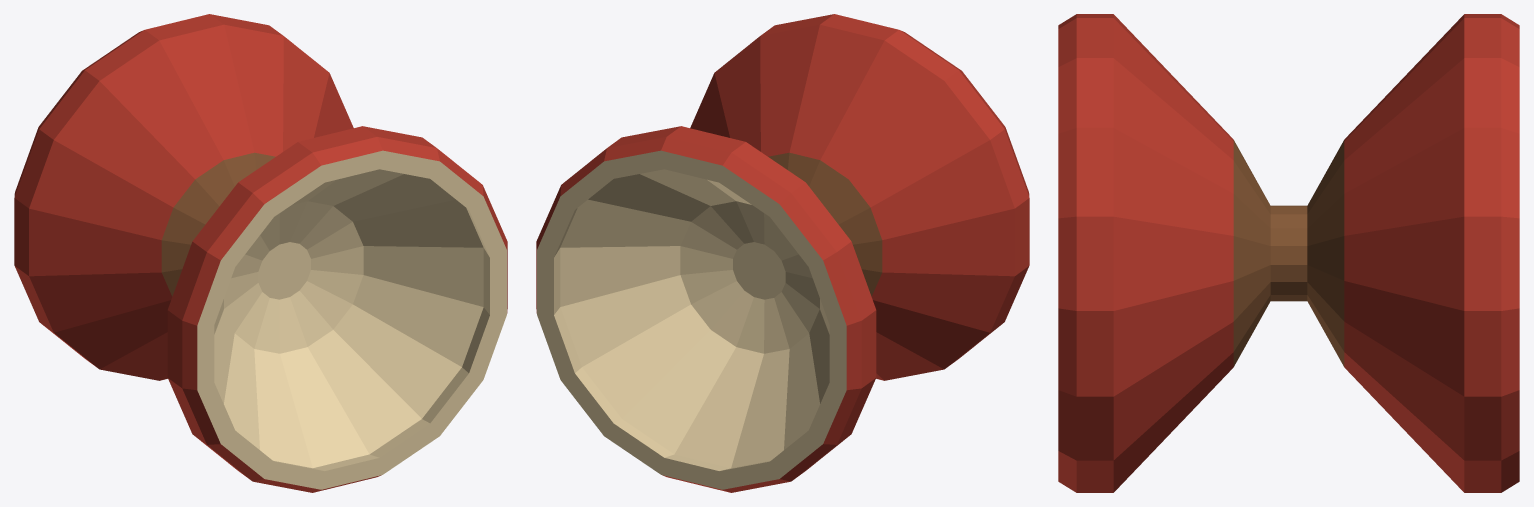
3 renders of one model, left to right at view 1: azimuth 30°, elevation 25°; view 2: azimuth 150°, elevation 25°; view 3: azimuth 270°, elevation 25°, orthographic. The views are drawn at different scales.
Parts seen in each view (by area): view 1: ContinuousOpposedDeepCupsAndNarrowWaist; view 2: ContinuousOpposedDeepCupsAndNarrowWaist; view 3: ContinuousOpposedDeepCupsAndNarrowWaist.
Part boxes in pixels (bbox=[...]): ContinuousOpposedDeepCupsAndNarrowWaist: bbox=[14, 14, 507, 492]; ContinuousOpposedDeepCupsAndNarrowWaist: bbox=[536, 14, 1029, 492]; ContinuousOpposedDeepCupsAndNarrowWaist: bbox=[1058, 14, 1519, 492].
Size of the model in its own units: 0.206 by 0.206 by 0.2.
